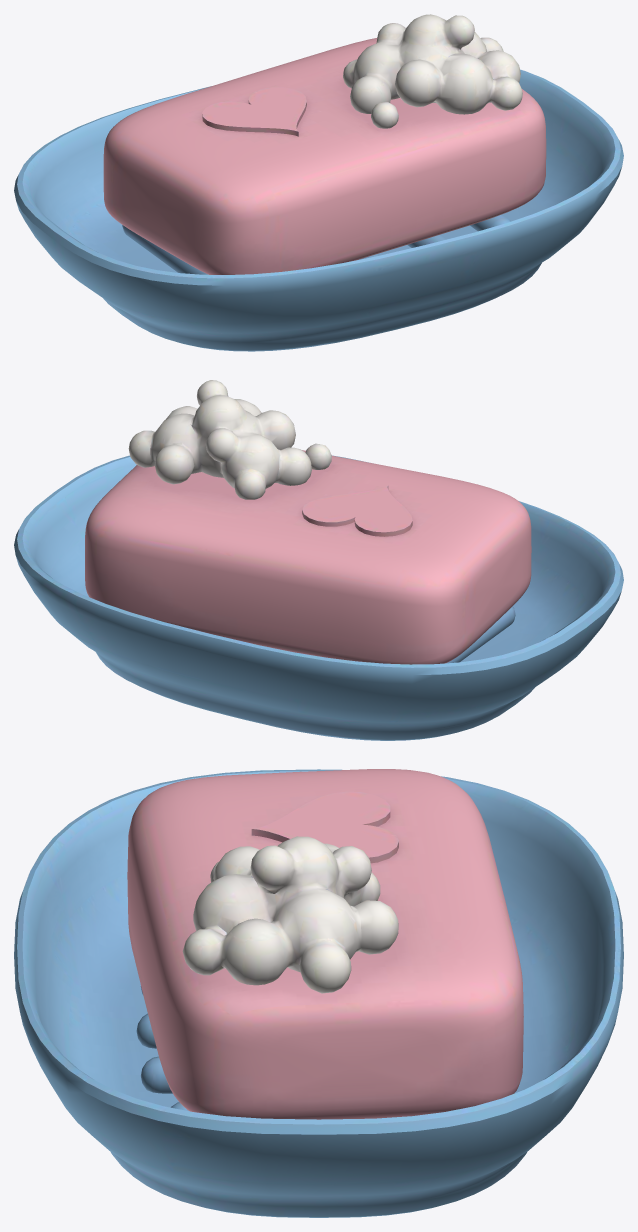
The model's file is pastilla_jabon.glb.
3 views of the same model, one above another, from view 1: azimuth 30°, elevation 25°; view 2: azimuth 150°, elevation 25°; view 3: azimuth 270°, elevation 25° (orthographic). The views are drawn at different scales.
Visible parts, largest first — view 1: soap-bar_body; view 2: soap-bar_body; view 3: soap-bar_body.
Part boxes in pixels (x1,y1,x2,y2): soap-bar_body: (14,14,623,351); soap-bar_body: (14,380,623,740); soap-bar_body: (14,769,623,1217).
Bounding box in the file's own units: 0.128 × 0.0545 × 0.092.
1 material, 1 textured.
